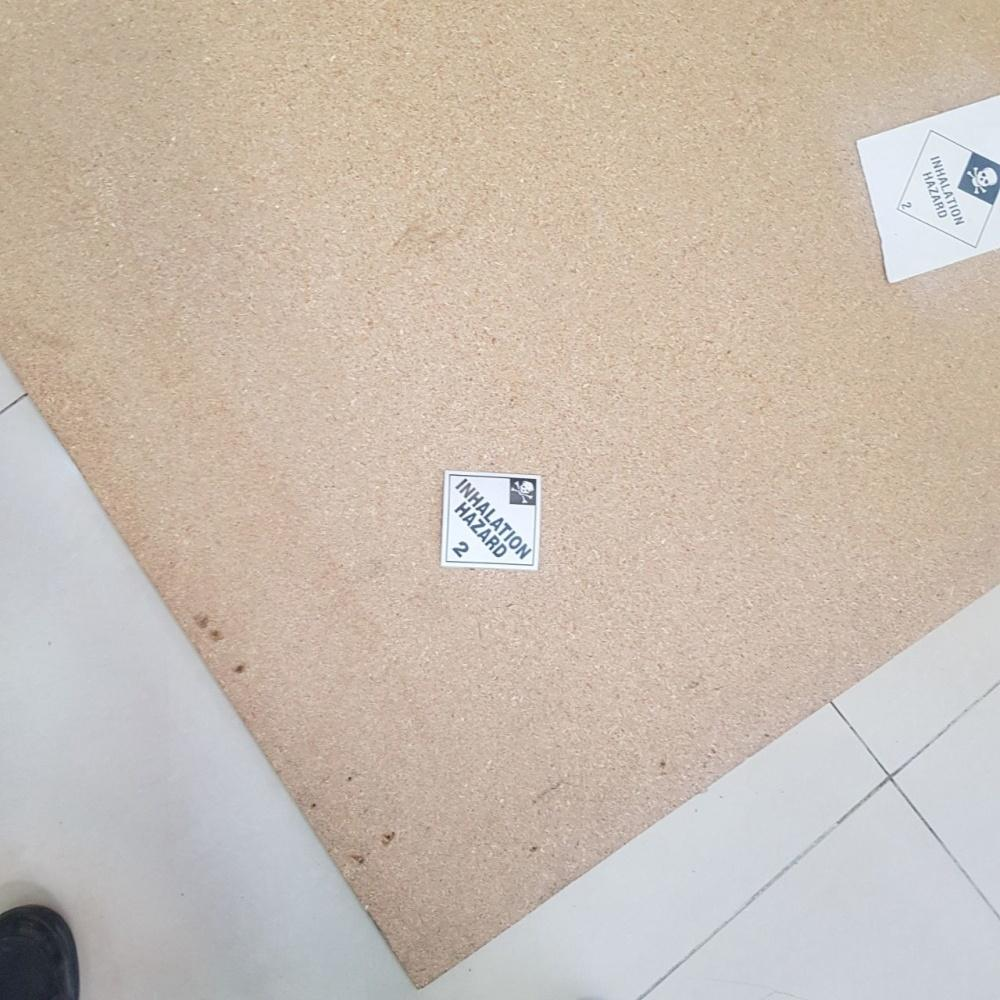poison: (896, 129, 1000, 248), (444, 472, 548, 575)
